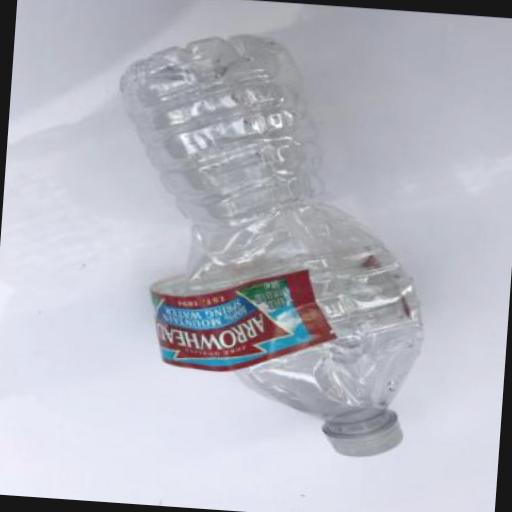plastic: (92, 25, 442, 460), (142, 226, 422, 384), (320, 406, 403, 460)
